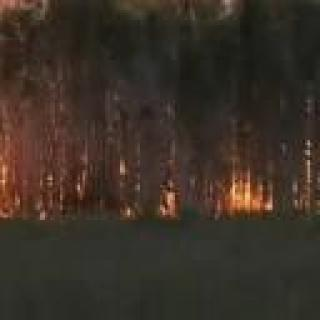fire: (0, 168, 84, 218), (112, 166, 178, 225), (221, 174, 274, 213), (298, 142, 319, 213)
